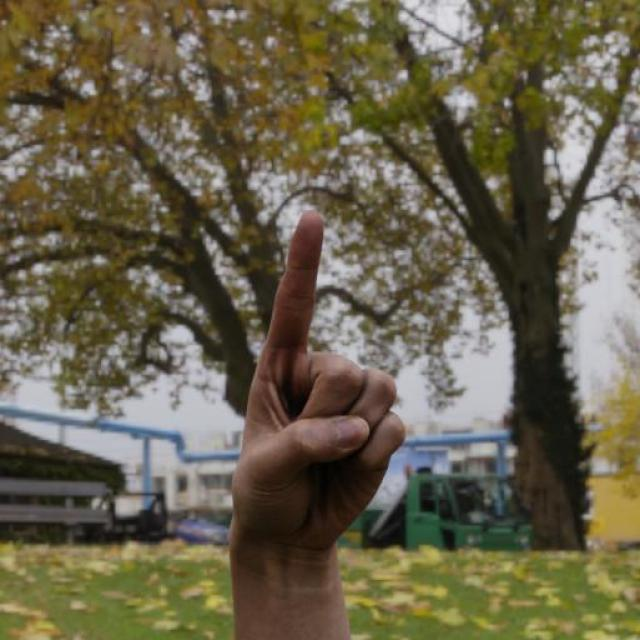Z: (225, 208, 413, 562)
